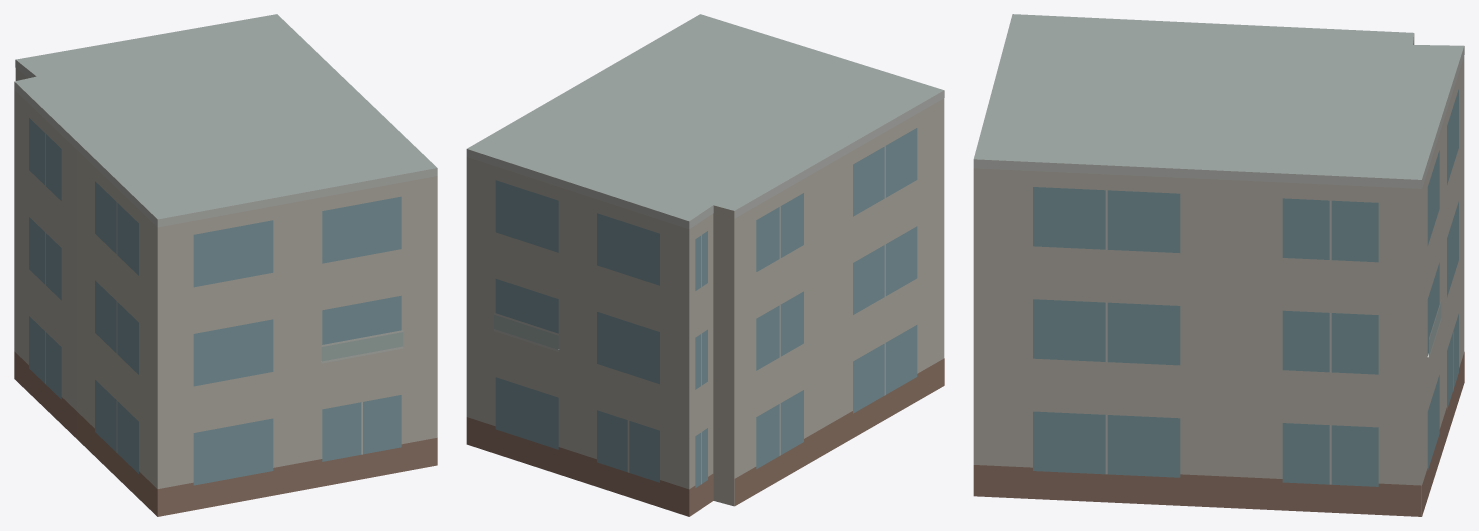
The model's file is survey-upis-33011974.glb.
The picture shows the model from 3 angles, left to right: view 1: azimuth 30°, elevation 25°; view 2: azimuth 150°, elevation 25°; view 3: azimuth 270°, elevation 25°; orthographic projection. The views are drawn at different scales.
Visible parts, largest first — view 1: survey-upis-33011974.tmp; view 2: survey-upis-33011974.tmp; view 3: survey-upis-33011974.tmp.
Boxes of the visible parts, x1,y1,x2,y2 form: survey-upis-33011974.tmp: [14, 14, 437, 516]; survey-upis-33011974.tmp: [466, 14, 944, 516]; survey-upis-33011974.tmp: [973, 14, 1464, 516].
Bounding box in the file's own units: 9.67 × 9.15 × 12.09.
